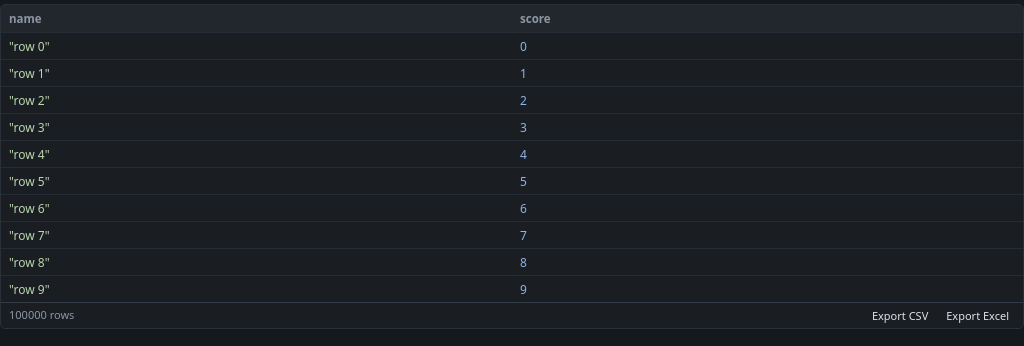
tables export every row with progress, and report the result
Click the button "Export Excel". click: point(978, 316)
box: left=940, top=307, right=1015, bottom=324
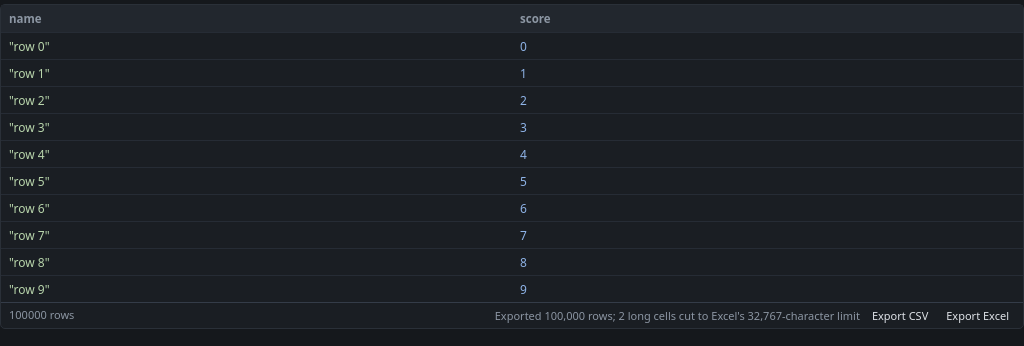
Expected: the button "Export CSV" is shown, left=866, top=307, right=934, bottom=324
Result: the text "Exported 100,000 rows; 2 long cells cut" is shown at left=495, top=308, right=860, bottom=323
